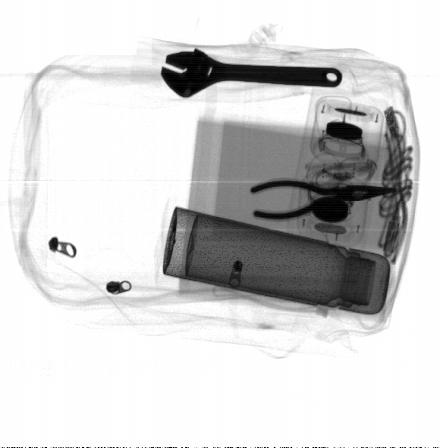Pliers: (249, 178, 400, 222)
Wrench: (160, 46, 343, 100)
